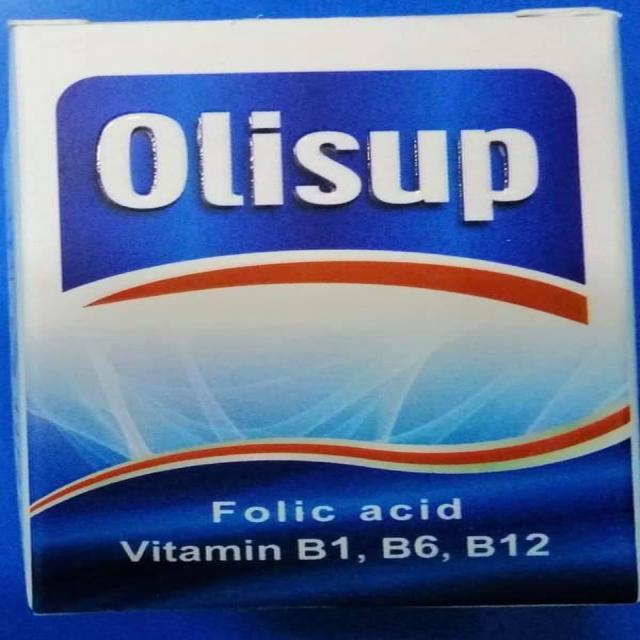drug-name: (93, 102, 546, 228)
